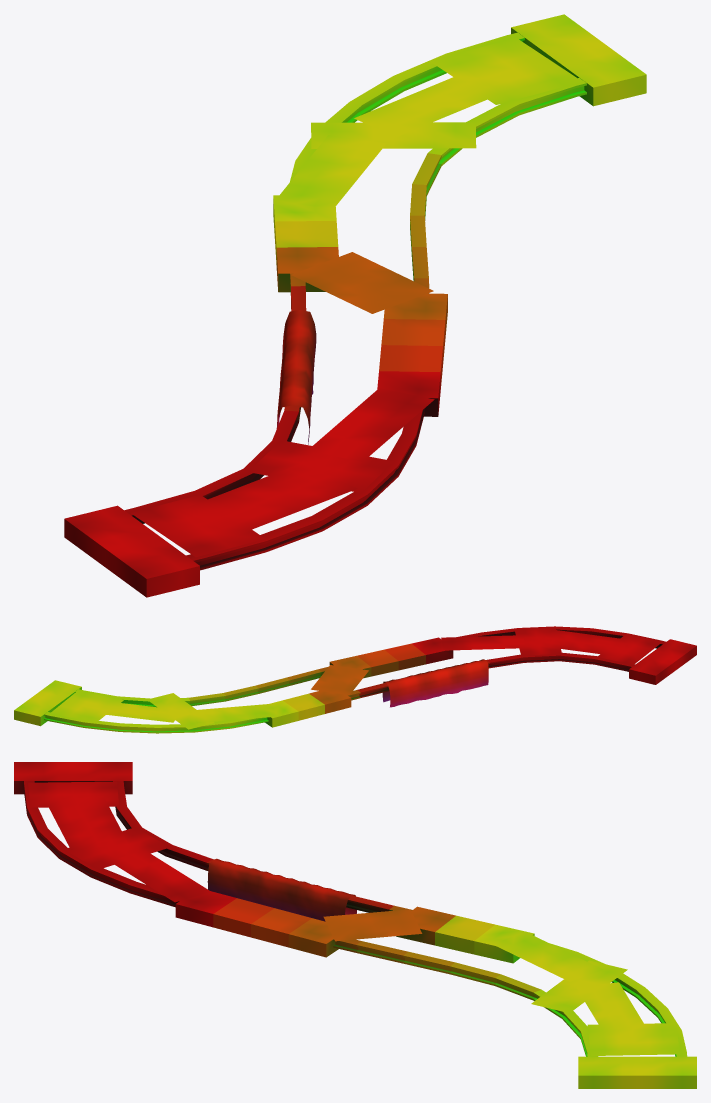
File: SM_RoadModule_D4.fbx
3 views of the same model, one above another, from view 1: azimuth 30°, elevation 25°; view 2: azimuth 150°, elevation 25°; view 3: azimuth 270°, elevation 25° (orthographic). The views are drawn at different scales.
Parts seen in each view (by area): view 1: road; view 2: road; view 3: road.
Part boxes in pixels (x1,y1,x2,y2): road: (64, 14, 646, 597); road: (14, 626, 696, 733); road: (14, 762, 696, 1088).
Size of what is drawn, in the model's own units: 5000 by 4604 by 247.
